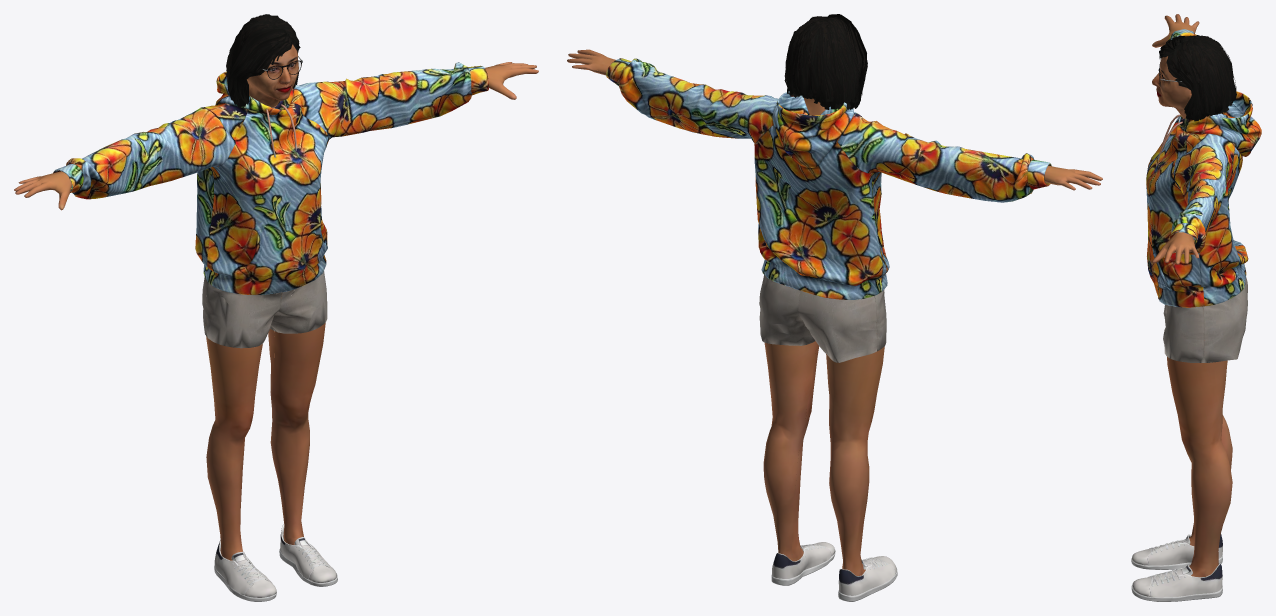
Rendered from person-standing-6.glb.
3 views of the same model, side by side, from view 1: azimuth 30°, elevation 25°; view 2: azimuth 150°, elevation 25°; view 3: azimuth 270°, elevation 25° (orthographic). The views are drawn at different scales.
Parts seen in each view (by area): view 1: outfit_top_outfit_top_0, AvatarBody_AvatarBody_0, outfit_bottom_outfit_bottom_0, outfit_shoes_outfit_shoes_0, haircut_haircut_0, __1; view 2: outfit_top_outfit_top_0, AvatarBody_AvatarBody_0, outfit_bottom_outfit_bottom_0, haircut_haircut_0, outfit_shoes_outfit_shoes_0; view 3: outfit_top_outfit_top_0, AvatarBody_AvatarBody_0, outfit_bottom_outfit_bottom_0, haircut_haircut_0, outfit_shoes_outfit_shoes_0, __1.
Boxes of the visible parts, x1=… form: outfit_top_outfit_top_0: x1=53, y1=62, x2=488, y2=294; AvatarBody_AvatarBody_0: x1=14, y1=62, x2=538, y2=560; outfit_bottom_outfit_bottom_0: x1=202, y1=271, x2=327, y2=348; outfit_shoes_outfit_shoes_0: x1=214, y1=524, x2=337, y2=601; haircut_haircut_0: x1=226, y1=14, x2=300, y2=107; __1: x1=247, y1=44, x2=298, y2=107; outfit_top_outfit_top_0: x1=606, y1=58, x2=1051, y2=299; AvatarBody_AvatarBody_0: x1=567, y1=49, x2=1102, y2=575; outfit_bottom_outfit_bottom_0: x1=759, y1=275, x2=886, y2=362; haircut_haircut_0: x1=784, y1=14, x2=867, y2=109; outfit_shoes_outfit_shoes_0: x1=771, y1=542, x2=897, y2=601; outfit_top_outfit_top_0: x1=1146, y1=29, x2=1261, y2=307; AvatarBody_AvatarBody_0: x1=1152, y1=14, x2=1232, y2=577; outfit_bottom_outfit_bottom_0: x1=1158, y1=277, x2=1247, y2=362; haircut_haircut_0: x1=1159, y1=35, x2=1236, y2=121; outfit_shoes_outfit_shoes_0: x1=1131, y1=534, x2=1222, y2=601; __1: x1=1152, y1=56, x2=1221, y2=118.
Bounding box in the file's own units: 1.63 × 1.65 × 0.3599.
Materials: 12 (11 with a texture image).
